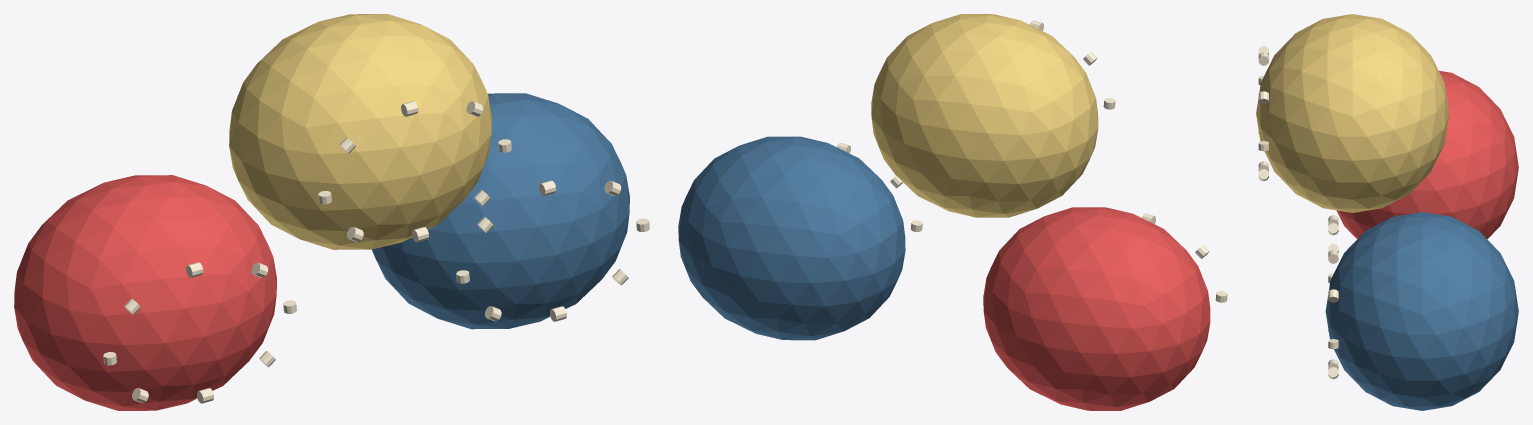
The model's file is folk_otedama.glb.
The picture shows the model from 3 angles, left to right: view 1: azimuth 30°, elevation 25°; view 2: azimuth 150°, elevation 25°; view 3: azimuth 270°, elevation 25°; orthographic projection. The views are drawn at different scales.
Visible parts, largest first — view 1: Otedama handmade patterned beanbag.002, Otedama handmade patterned beanbag, Otedama handmade patterned beanbag.001; view 2: Otedama handmade patterned beanbag.001, Otedama handmade patterned beanbag.002, Otedama handmade patterned beanbag; view 3: Otedama handmade patterned beanbag.001, Otedama handmade patterned beanbag.002, Otedama handmade patterned beanbag.
Part boxes in pixels (<box>): Otedama handmade patterned beanbag.002: <box>229,14,491,249</box>; Otedama handmade patterned beanbag: <box>14,175,276,410</box>; Otedama handmade patterned beanbag.001: <box>371,93,629,329</box>; Otedama handmade patterned beanbag.001: <box>678,136,905,340</box>; Otedama handmade patterned beanbag.002: <box>871,14,1098,217</box>; Otedama handmade patterned beanbag: <box>983,207,1210,410</box>; Otedama handmade patterned beanbag.001: <box>1325,212,1518,410</box>; Otedama handmade patterned beanbag.002: <box>1256,14,1449,212</box>; Otedama handmade patterned beanbag: <box>1336,70,1518,239</box>.
Size of the model in its own units: 1.95 by 1.16 by 0.9208.
